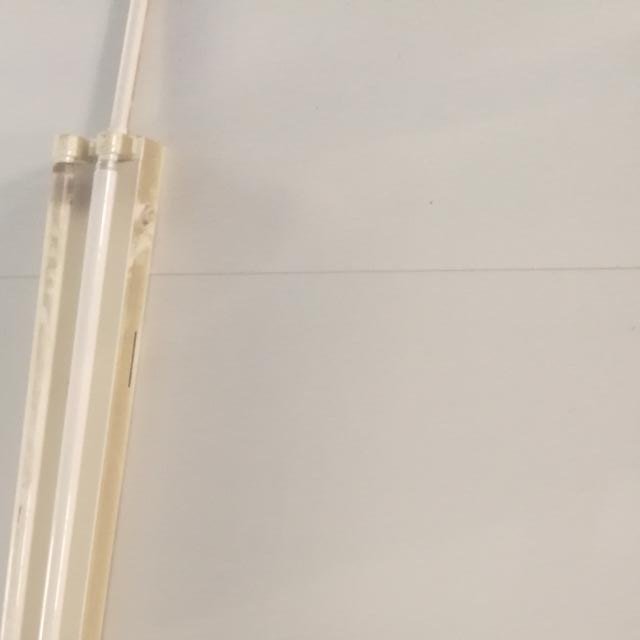fluorescent tube: (0, 117, 180, 640)
